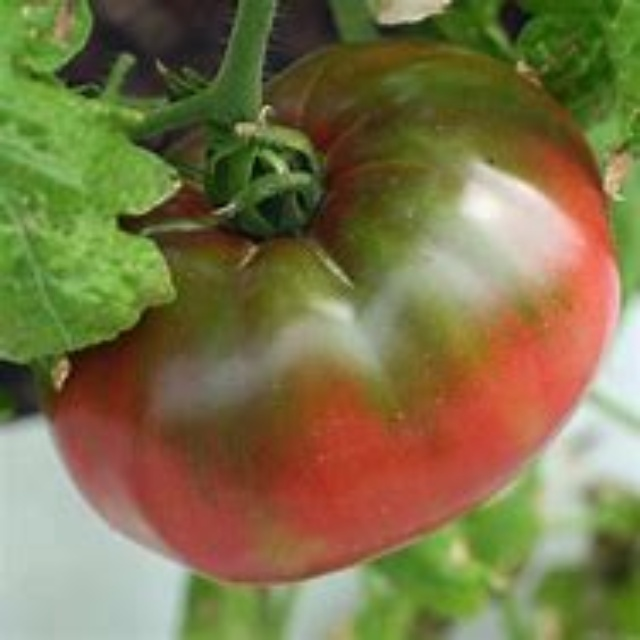tomato: (52, 44, 611, 583)
